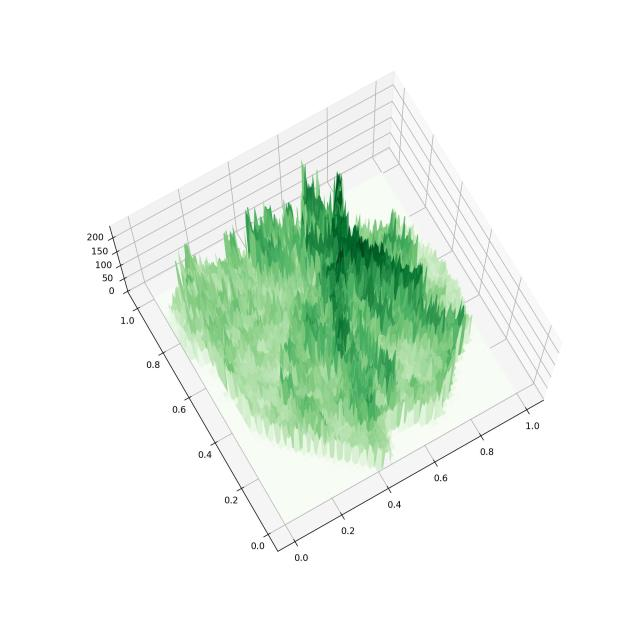spruce: (54, 54, 584, 584)
